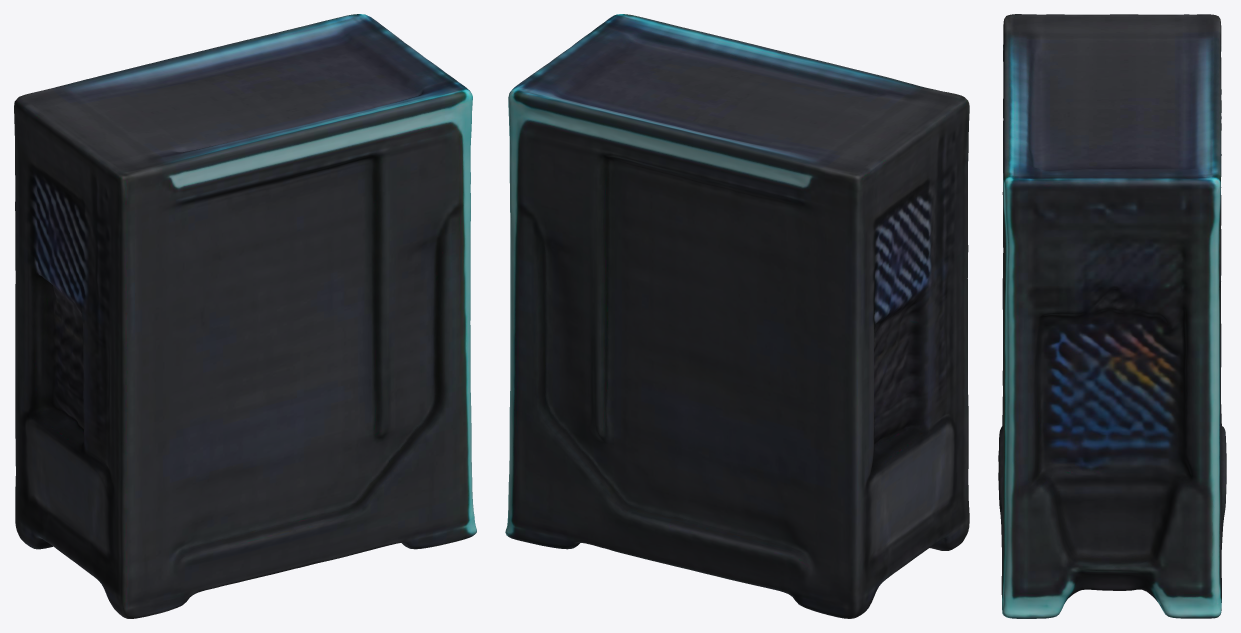
Rendered from 78e4940f25c3_una_torre_de_ordena.fbx.
3 renders of one model, left to right at view 1: azimuth 30°, elevation 25°; view 2: azimuth 150°, elevation 25°; view 3: azimuth 270°, elevation 25°, orthographic. The views are drawn at different scales.
Visible parts, largest first — view 1: high_poly; view 2: high_poly; view 3: high_poly.
Part boxes in pixels (x1,y1,x2,y2): high_poly: (14, 14, 476, 618); high_poly: (505, 14, 969, 618); high_poly: (998, 14, 1226, 618).
Bounding box in the file's own units: 83.41 × 100 × 47.04.
